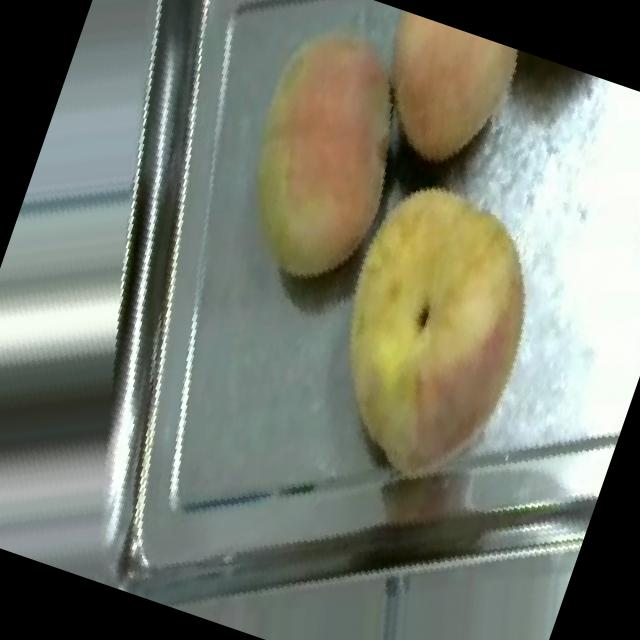Fruit: (254, 126, 614, 534), (172, 0, 473, 338), (316, 0, 554, 205)
